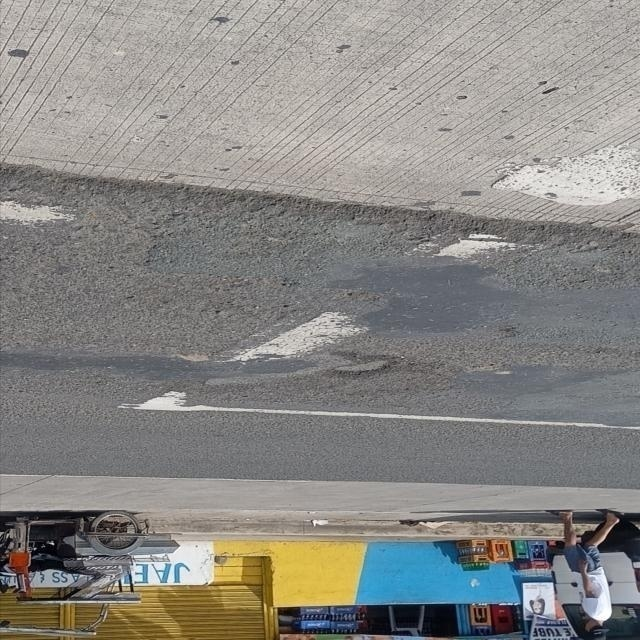pothole: (238, 285, 486, 397)
